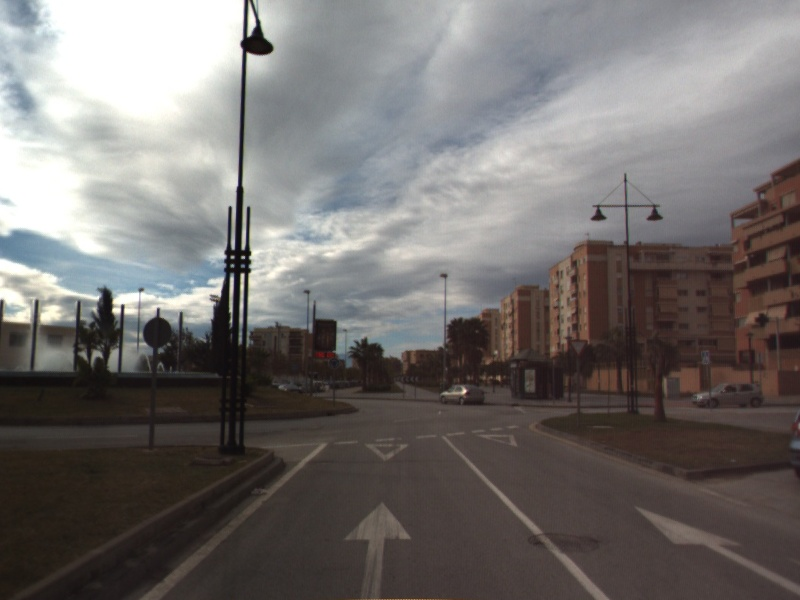STRAIGHT: (631, 504, 800, 597), (340, 499, 415, 600)
